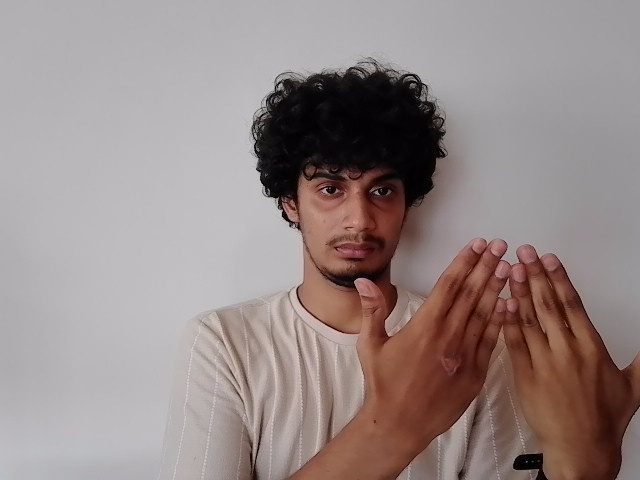thankyou: (347, 233, 640, 458)
